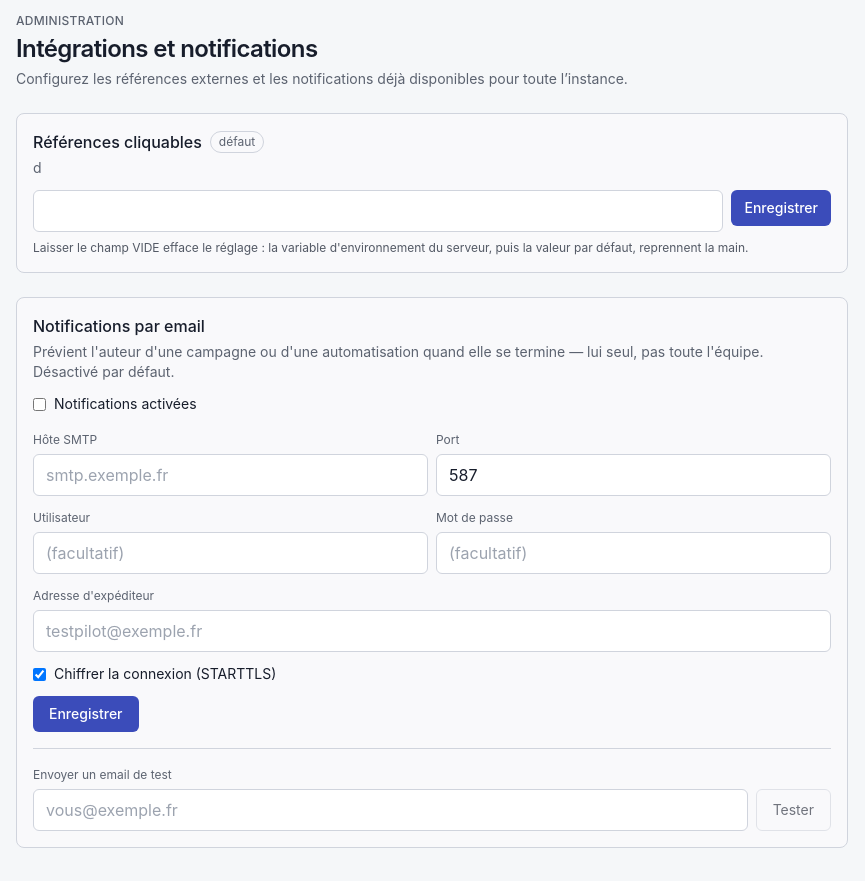
Test: Settings — section Notifications par email › un échec de test affiche l'erreur, pas un succès muet
The width and height of the screenshot is (865, 881).
Type "moi@exemple.fr" into the field with placeholder "vous@exemple.fr" at (390, 810), box 33,789 -> 748,831
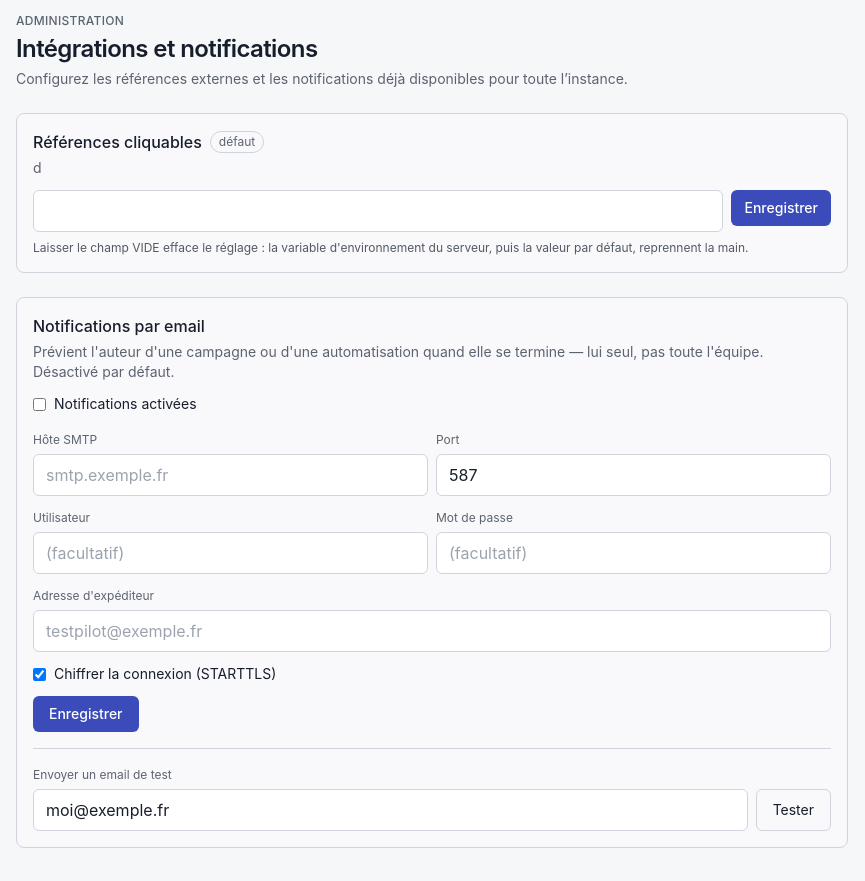
Click the button "Tester" at (793, 810), box 756,789 -> 831,831
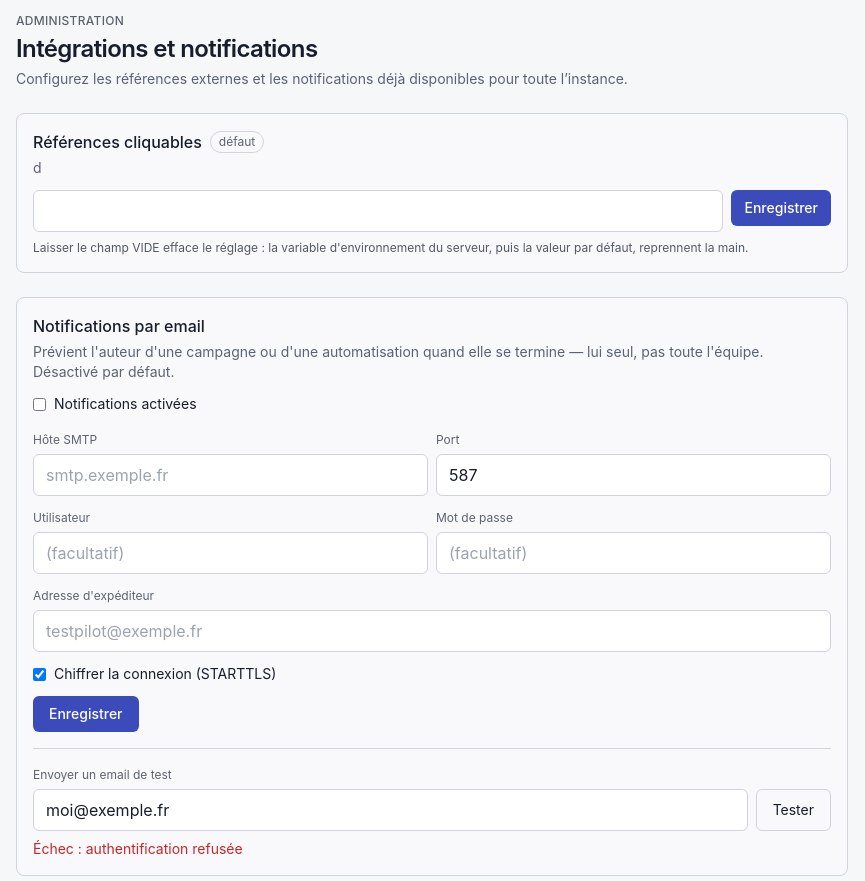
expect the text "authentification refusée" is shown: met, box 33,840 -> 243,857
